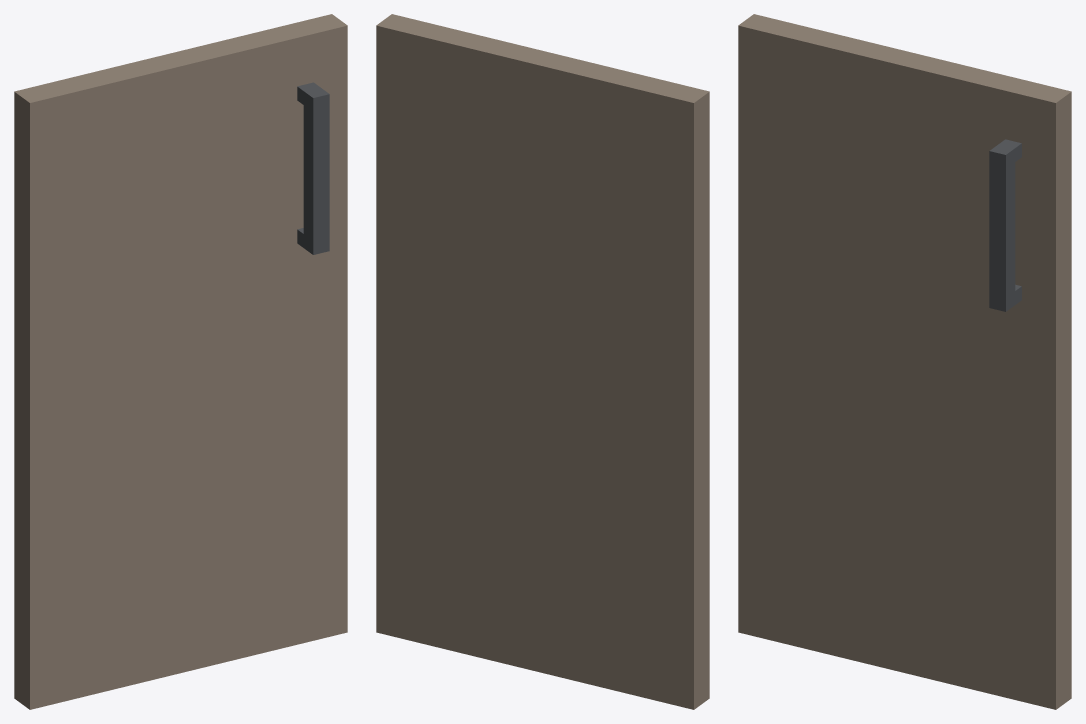
File: Door1_C5_10.fbx
The picture shows the model from 3 angles, left to right: view 1: azimuth 30°, elevation 25°; view 2: azimuth 150°, elevation 25°; view 3: azimuth 330°, elevation 25°; orthographic projection.
Parts seen in each view (by area): view 1: Door1_C5_10; view 2: Door1_C5_10; view 3: Door1_C5_10.
Part boxes in pixels (bbox=[...]): Door1_C5_10: bbox=[14, 14, 347, 709]; Door1_C5_10: bbox=[376, 14, 709, 709]; Door1_C5_10: bbox=[738, 14, 1071, 709].
Size of the model in its own units: 29 by 52.92 by 5.03.
